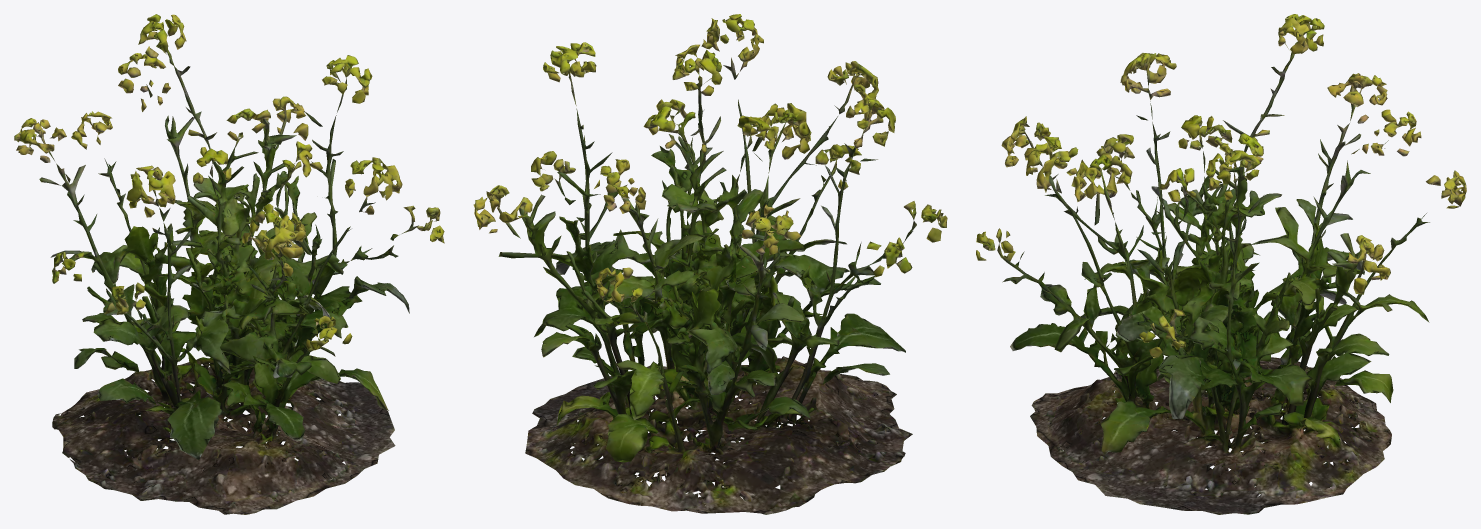
File: nanohana.0.glb
3 renders of one model, left to right at view 1: azimuth 30°, elevation 25°; view 2: azimuth 150°, elevation 25°; view 3: azimuth 270°, elevation 25°, orthographic. The views are drawn at different scales.
Visible parts, largest first — view 1: geometry_0; view 2: geometry_0; view 3: geometry_0.
Part boxes in pixels (x1,y1,x2,y2): geometry_0: (14,14,444,514); geometry_0: (473,14,947,514); geometry_0: (976,14,1466,514).
Bounding box in the file's own units: 0.8969 × 0.9187 × 0.9921.
1 material, 1 textured.
